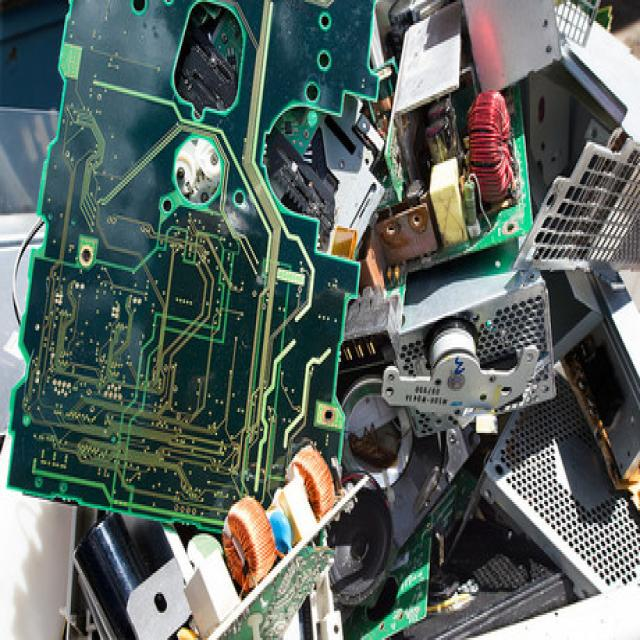Hazard: (11, 0, 639, 637)
